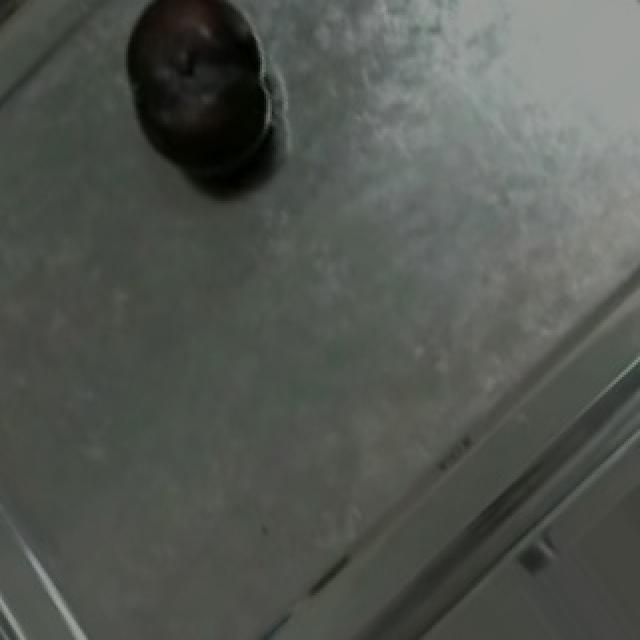Fruit: (106, 0, 290, 203)
